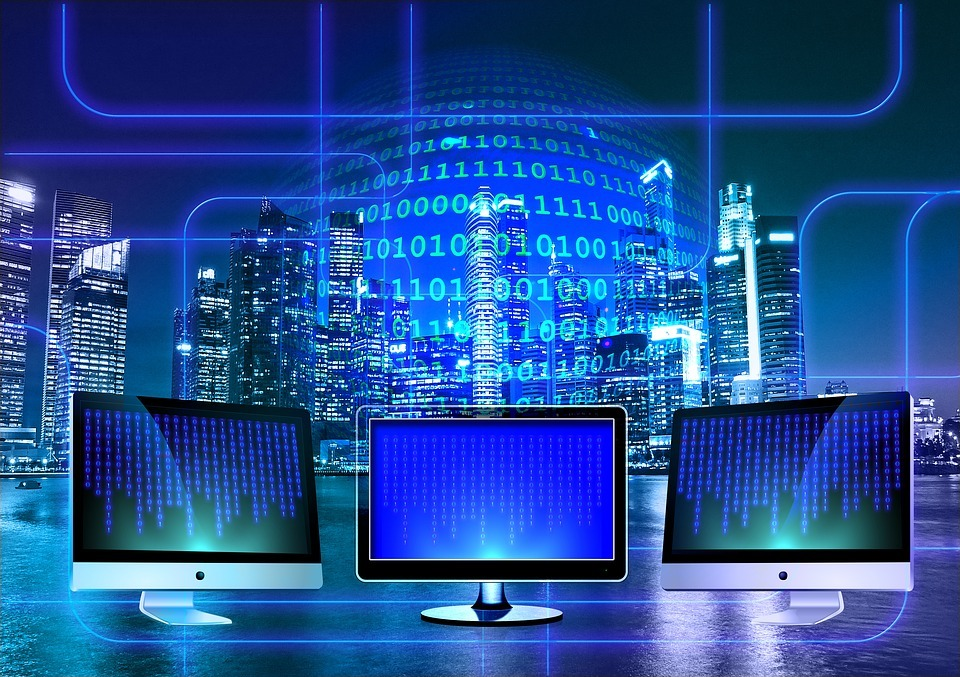tvmonitor: (345, 386, 641, 643), (53, 370, 337, 630), (651, 386, 925, 641)
